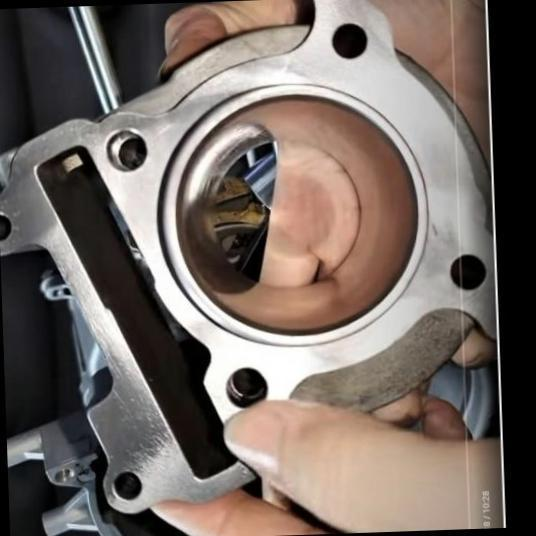hole: (224, 364, 271, 415), (105, 128, 152, 175), (329, 18, 372, 62), (448, 252, 490, 292)
